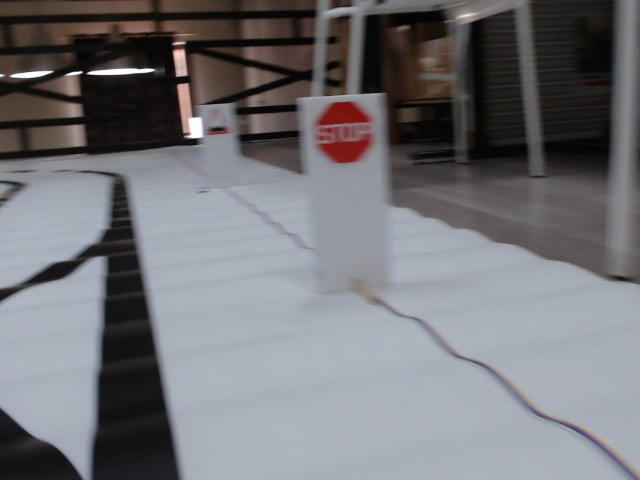Nerov: (203, 110, 232, 137)
Stop: (313, 100, 377, 165)
